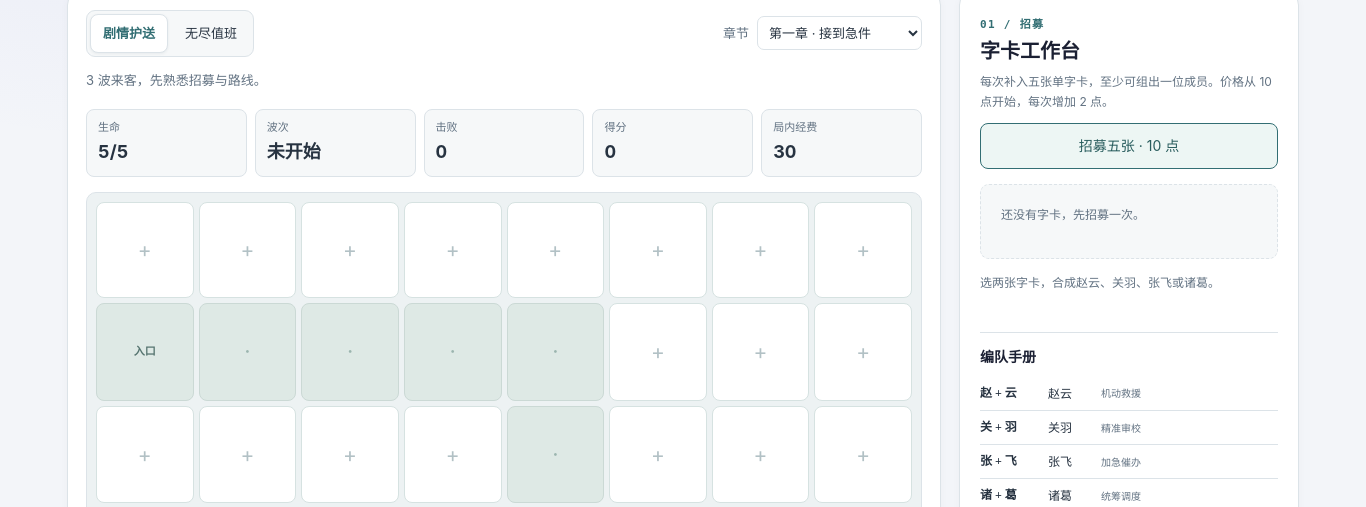
it: WordFrontPage › keeps a missing server seed playable only as an unranked local draft
Click the button "招募五张 · 10 点" at x=1129, y=146, box [980,123,1278,169]
(page scrolled)
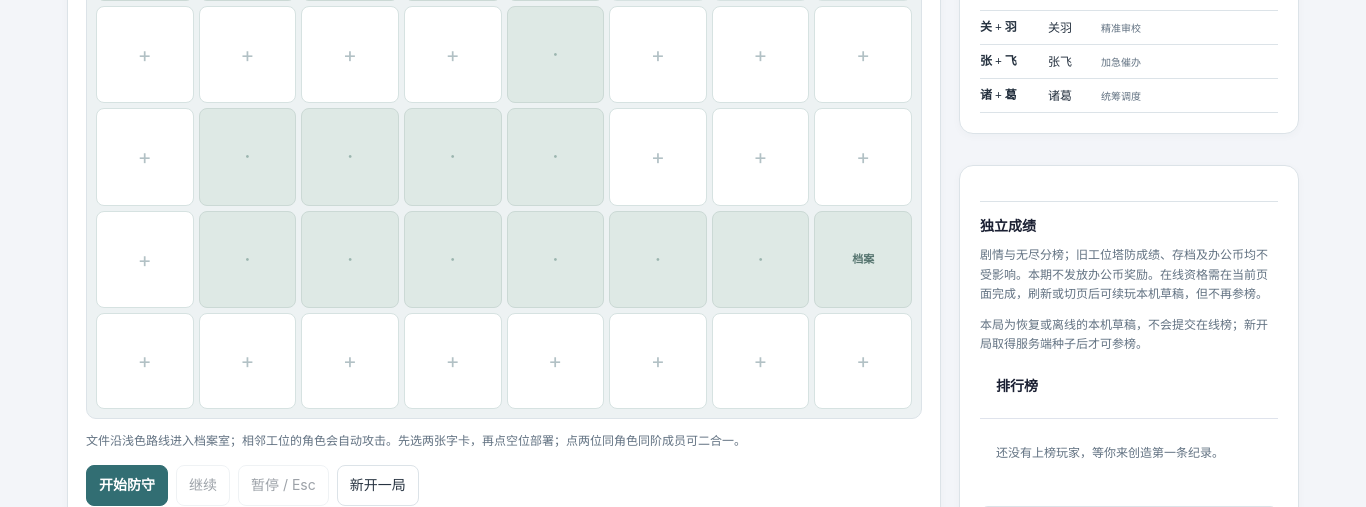
Expected: the text "本局为恢复或离线的本机草稿，不会提交在线榜；新开局取得服务端种子后才可参榜。" is shown, [980,315,1278,353]
